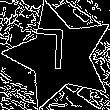L_S: (42, 30, 77, 82)
